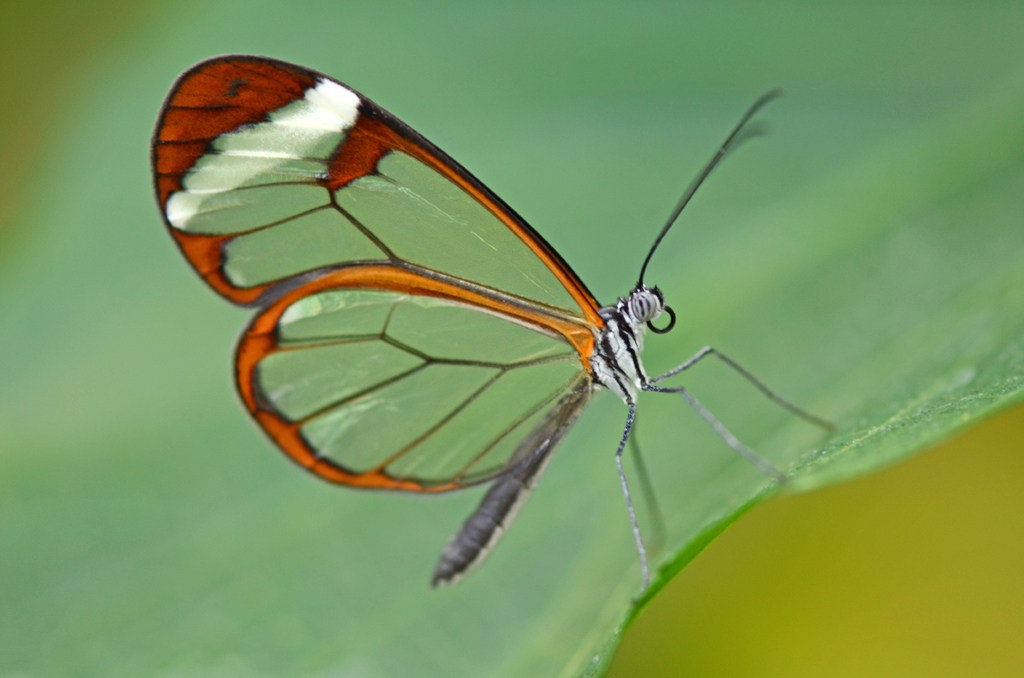Butterfly: (113, 44, 793, 600)
